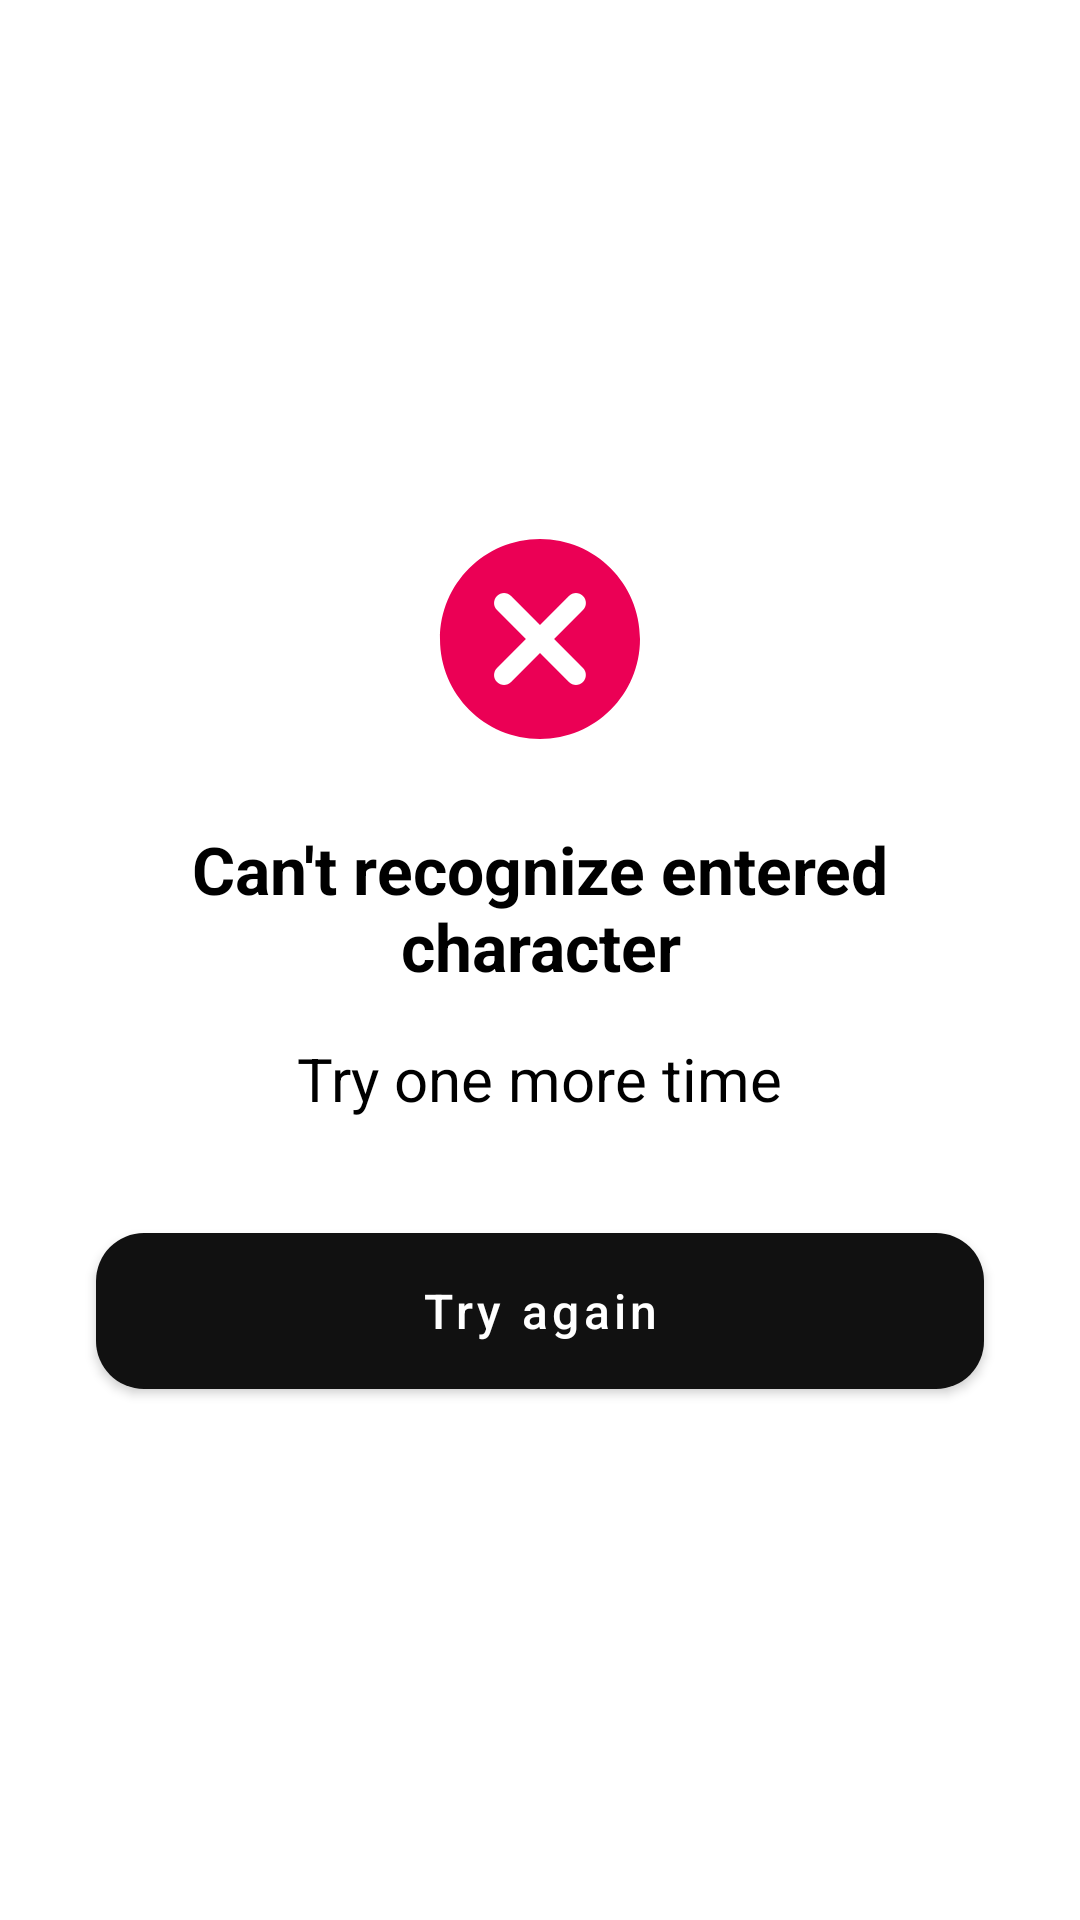

Screen size 1080px x 1920px. Icon name, then its box in pixels as [x1=x1, y1=y1, x2=x2, y2=y2]:
error: [x1=440, y1=539, x2=640, y2=739]
